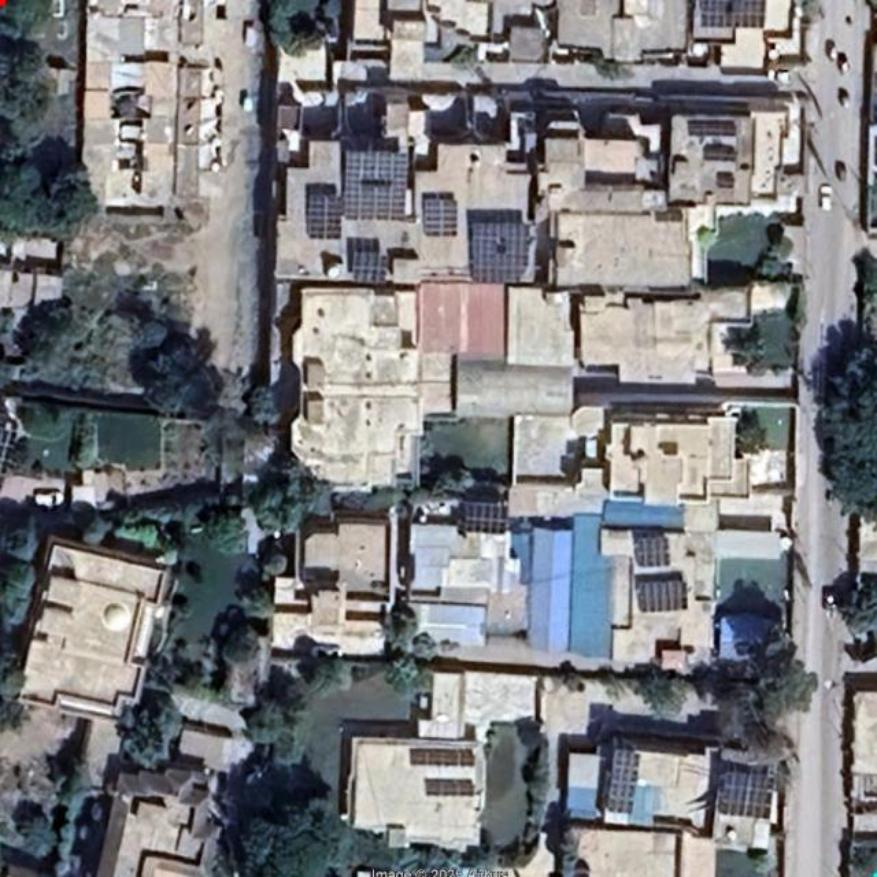Solarpanel: (345, 152, 409, 223), (471, 222, 527, 283), (716, 767, 774, 819), (605, 749, 642, 814), (702, 0, 766, 28), (639, 580, 691, 613), (459, 500, 505, 533), (309, 191, 341, 235), (425, 198, 460, 237), (355, 250, 393, 283), (634, 538, 673, 565), (408, 749, 473, 765), (425, 777, 469, 795)
